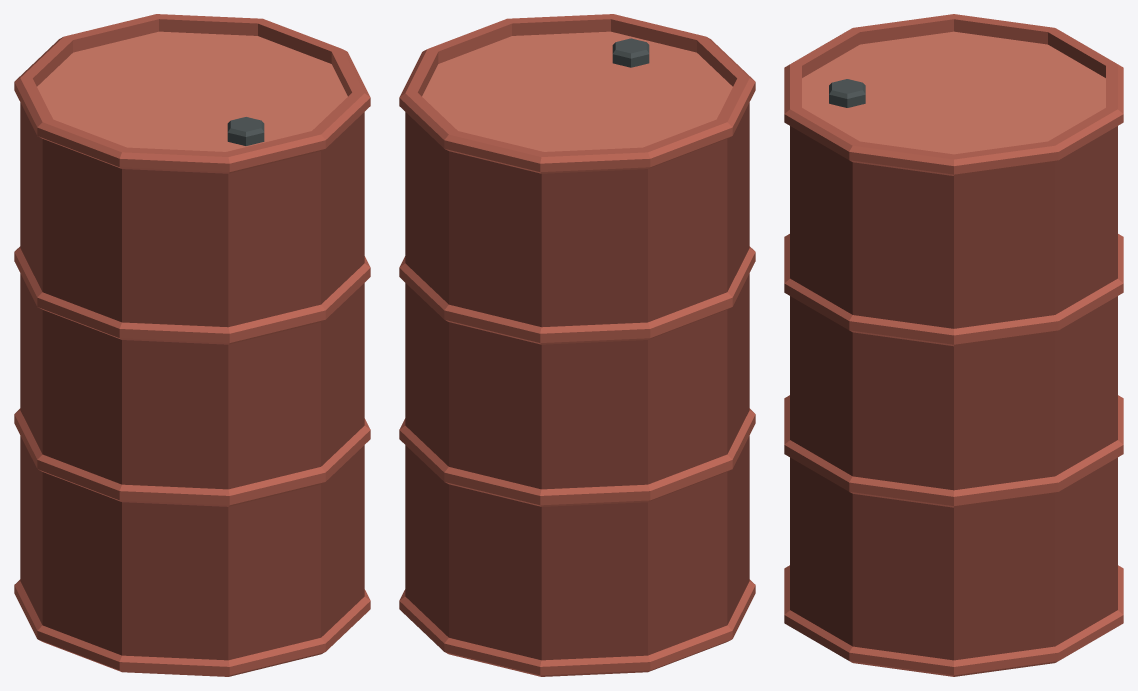
The model's file is Drum_3.FBX.
3 views of the same model, side by side, from view 1: azimuth 30°, elevation 25°; view 2: azimuth 150°, elevation 25°; view 3: azimuth 270°, elevation 25° (orthographic).
Parts seen in each view (by area): view 1: drum_004; view 2: drum_004; view 3: drum_004.
Boxes of the visible parts, x1=… form: drum_004: x1=14, y1=14, x2=370, y2=676; drum_004: x1=399, y1=14, x2=755, y2=676; drum_004: x1=784, y1=14, x2=1123, y2=676.
Bounding box in the file's own units: 0.5919 × 0.9483 × 0.5629.
1 material, 1 textured.
